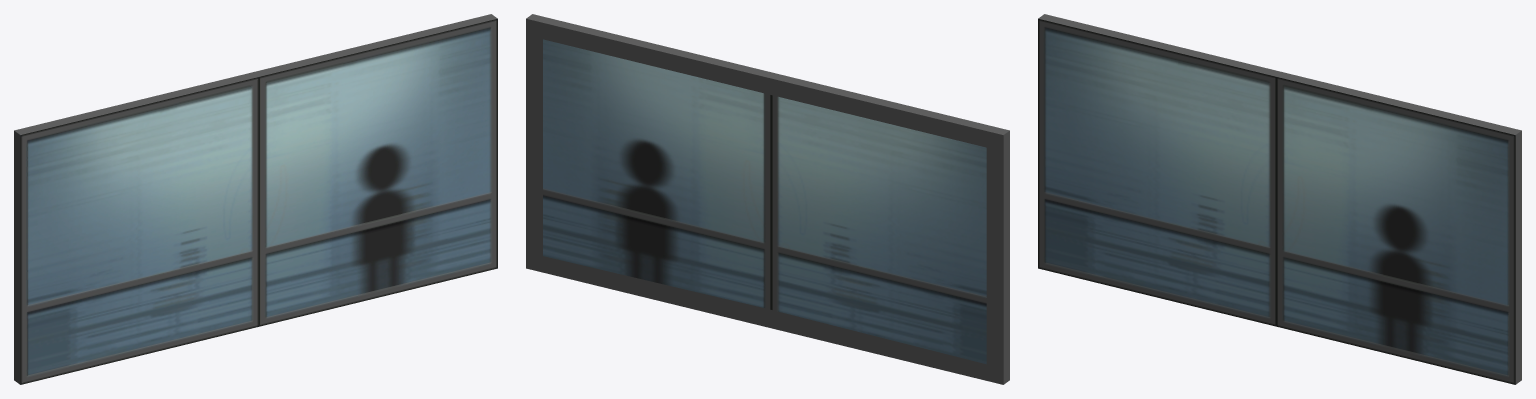
File: obroom.obj
3 renders of one model, left to right at view 1: azimuth 30°, elevation 25°; view 2: azimuth 150°, elevation 25°; view 3: azimuth 330°, elevation 25°, orthographic.
Visible parts, largest first — view 1: obroom; view 2: obroom; view 3: obroom.
Part boxes in pixels (bbox=[...]): obroom: bbox=[14, 14, 497, 384]; obroom: bbox=[526, 14, 1009, 384]; obroom: bbox=[1038, 14, 1521, 384].
Size of the model in its own units: 4 by 2 by 0.0929.
